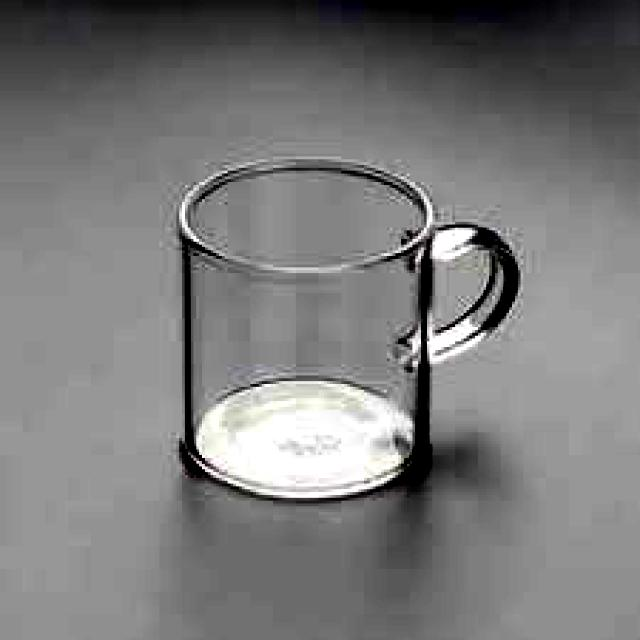Glass: (177, 150, 520, 510)
